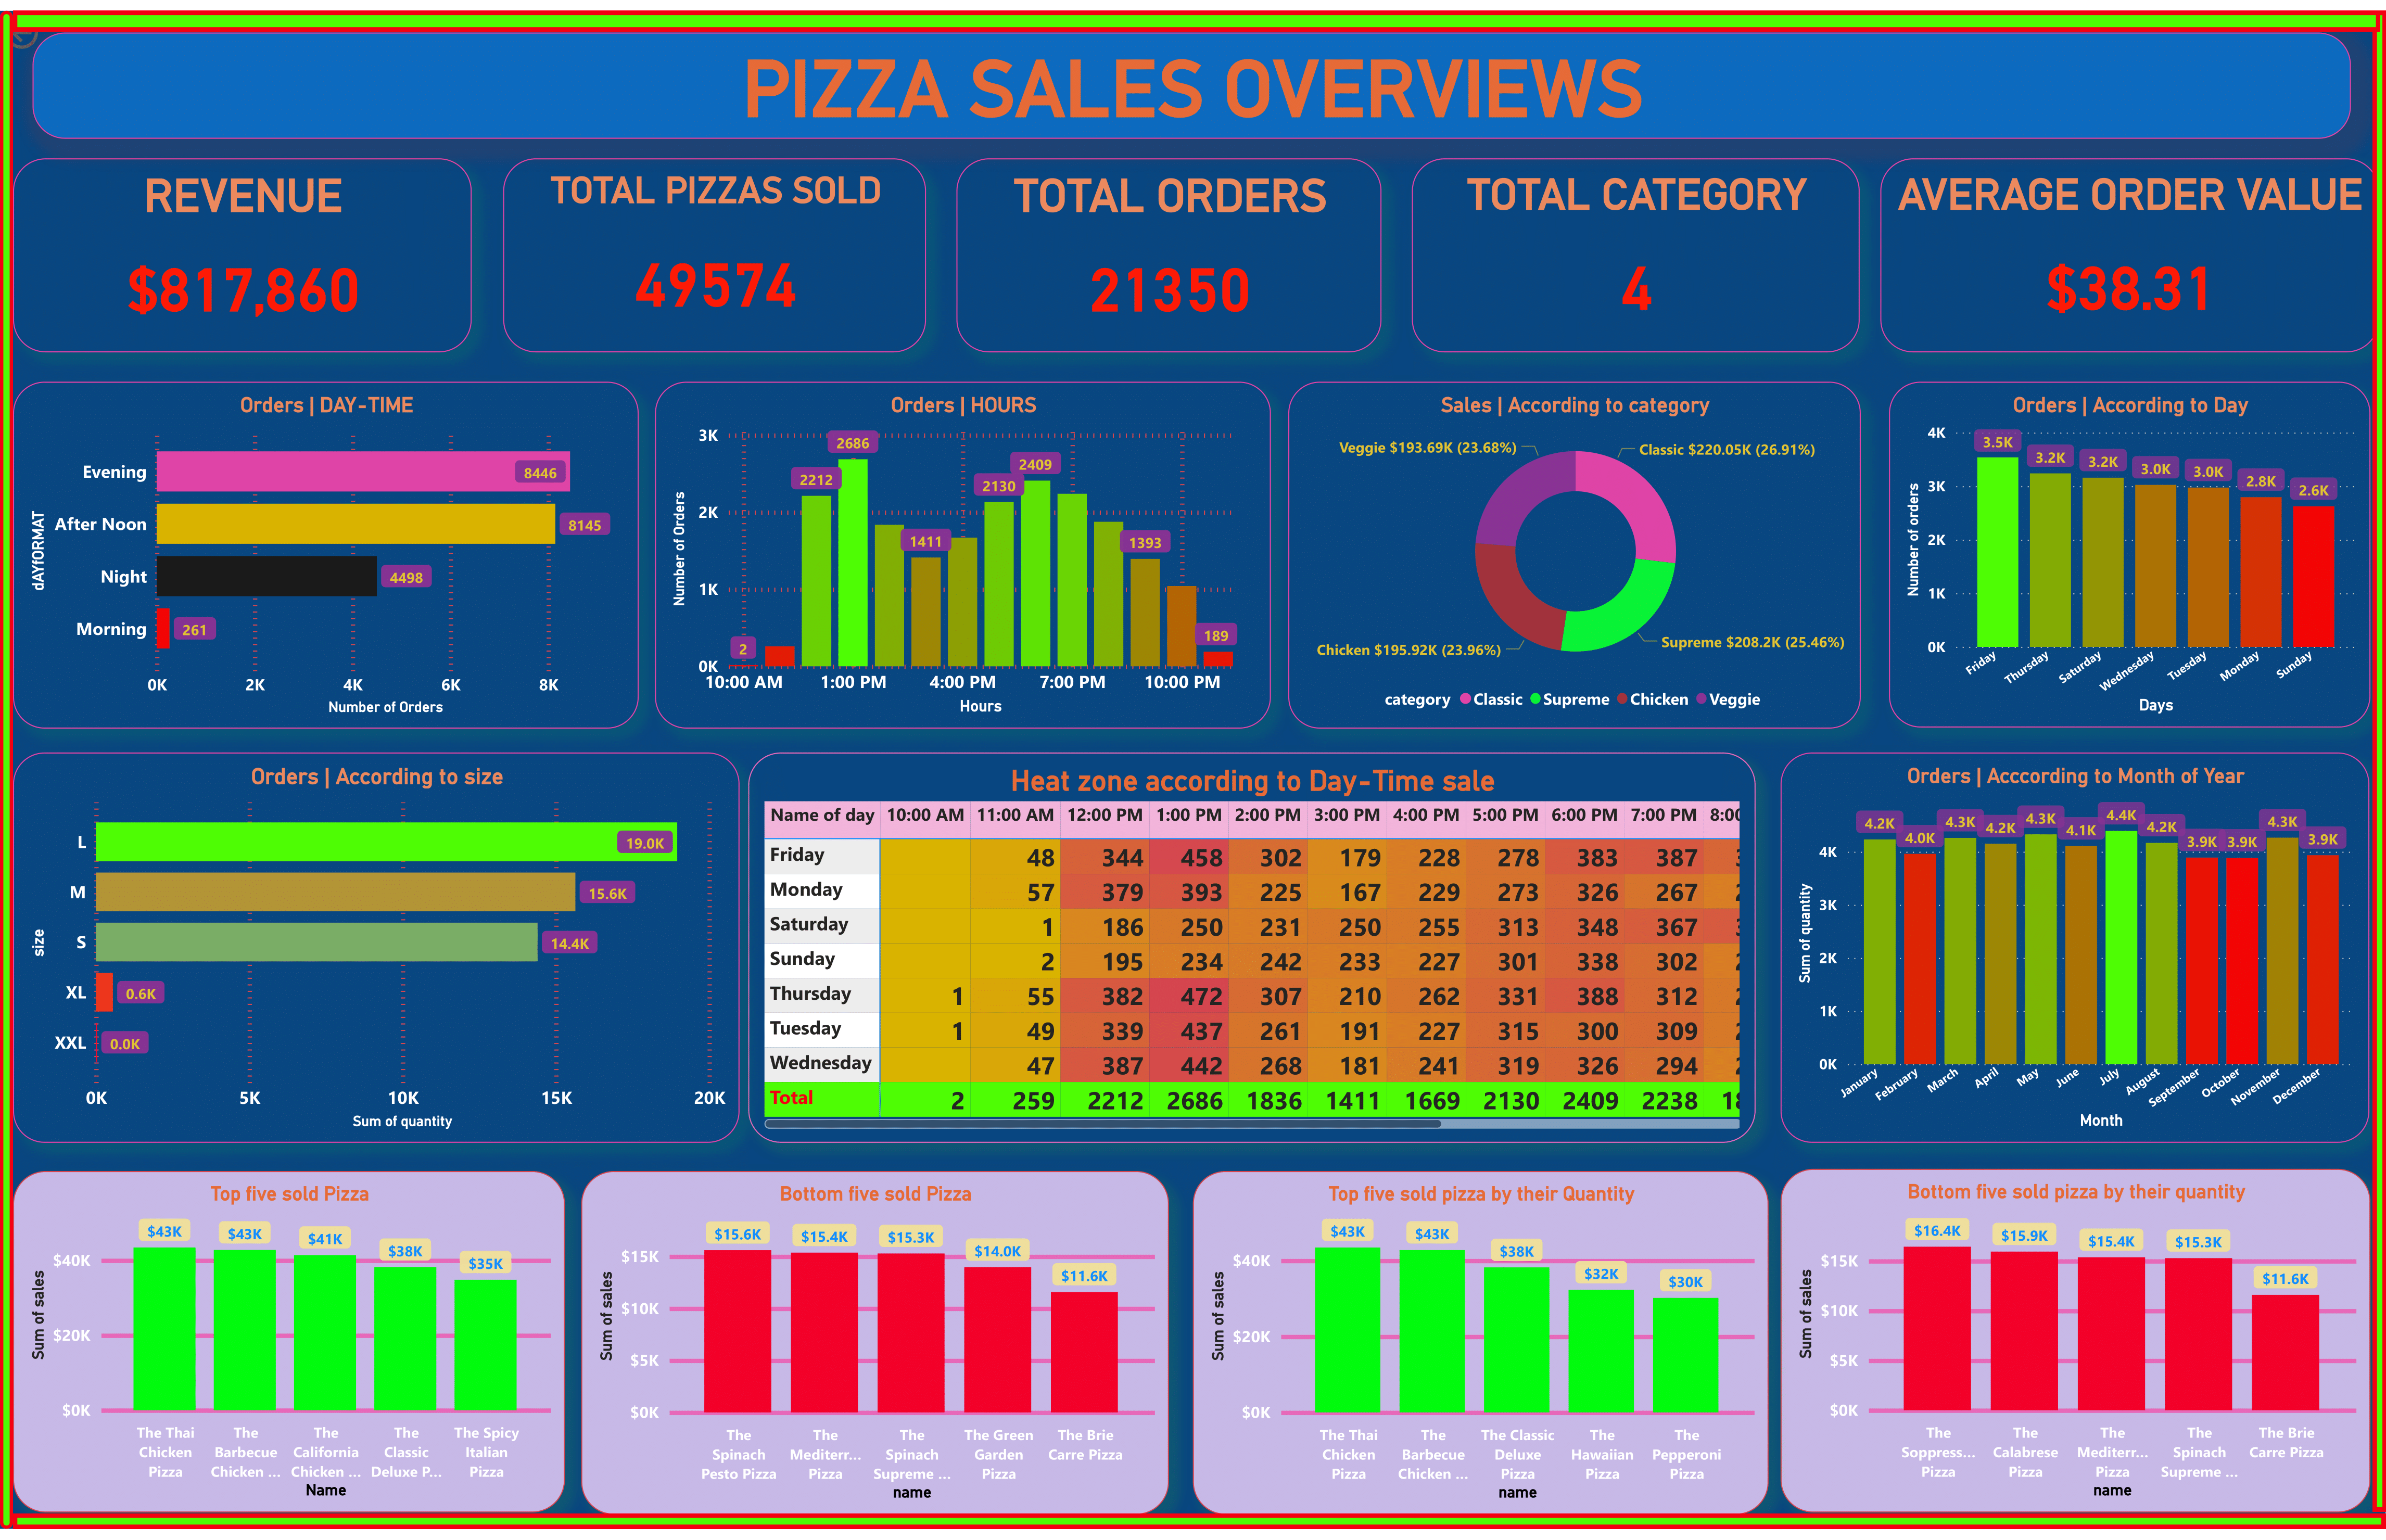

The page's visual inventory and layout, read from the dashboard file:
{"tool":"powerbi","page":{"name":"Pizza","canvas":[2200,1400],"ordinal":0},"visuals":[{"type":"card","title":"REVENUE","fields":{"Values":["Sum(order_details.sales)"]},"box":[11.5,136.5,423.1,178.8],"z":0},{"type":"clusteredColumnChart","title":"Orders | Acccording to Month of Year","fields":{"Category":["orders.date.Variation.Date Hierarchy.Quarter","orders.date.Variation.Date Hierarchy.Month"],"Y":["Sum(order_details.quantity)"]},"box":[1642.8,683.1,542.9,359.7],"z":1000},{"type":"card","title":"TOTAL ORDERS","fields":{"Values":["order_details.Number of Orders"]},"box":[882.7,136.5,392.3,178.8],"z":2000},{"type":"card","title":"TOTAL PIZZAS SOLD","fields":{"Values":["Sum(order_details.quantity)"]},"box":[463.5,136.5,390.4,178.8],"z":3000},{"type":"donutChart","title":"Sales | According to category","fields":{"Category":["pizza_types.category"],"Y":["Sum(order_details.sales)"]},"box":[1187.7,341.5,527.7,320],"z":4000},{"type":"columnChart","fields":{"Y":["order_details.Number of Orders"],"Category":["orders.Hours"]},"box":[964.5,1512.9,635.5,345.2],"z":5000},{"type":"columnChart","title":"Orders | According to Day","fields":{"Category":["orders.Name of day"],"Y":["order_details.Number of Orders"]},"box":[1741.5,341.6,444.1,319.5],"z":6000},{"type":"pivotTable","title":"Heat zone according to Day-Time sale","fields":{"Rows":["orders.Name of day"],"Columns":["orders.Hours"],"Values":["CountNonNull(orders.order_id)"]},"box":[690.8,683.1,929.2,360],"z":7000},{"type":"actionButton","box":[0,0,100,40],"z":8000},{"type":"shape","box":[0,1816.7,2200,83.3],"z":11000},{"type":"textbox","title":"PIZZA SALES OVERVIEWS ","box":[30.8,19.2,2138.5,98.1],"z":16000},{"type":"card","title":"TOTAL CATEGORY","fields":{"Values":["Count(pizza_types.category)"]},"box":[1301.9,136.5,413.5,178.8],"z":16001},{"type":"card","title":"AVERAGE ORDER VALUE","fields":{"Values":["order_details.AVERAGE"]},"box":[1734.6,136.5,459.6,178.8],"z":16002},{"type":"barChart","title":"Orders | According to size","fields":{"Category":["pizzas.size"],"Y":["Sum(order_details.quantity)"]},"box":[11.7,683.1,670.1,359.7],"z":16003},{"type":"clusteredColumnChart","title":"Orders | HOURS","fields":{"Category":["orders.Hours"],"Y":["order_details.Number of Orders"]},"box":[604.6,341.5,567.7,320],"z":16004},{"type":"clusteredColumnChart","title":"Top five sold Pizza","fields":{"Category":["pizza_types.name"],"Y":["Sum(order_details.sales)"]},"box":[11.8,1070.6,508.8,314.7],"z":16005},{"type":"clusteredColumnChart","title":"Bottom five sold Pizza ","fields":{"Category":["pizza_types.name"],"Y":["Sum(order_details.sales)"]},"box":[536.9,1069.2,541.5,316.9],"z":16006},{"type":"clusteredColumnChart","title":"Bottom five sold pizza by their quantity","fields":{"Category":["pizza_types.name"],"Y":["Sum(order_details.sales)"]},"box":[1642.8,1067.5,544.1,316.9],"z":16007},{"type":"clusteredColumnChart","title":"Top five sold pizza by their Quantity","fields":{"Category":["pizza_types.name"],"Y":["Sum(order_details.sales)"]},"box":[1100,1069.2,530.8,316.9],"z":16008},{"type":"clusteredBarChart","title":"Orders | DAY-TIME","fields":{"Category":["orders.dAYfORMAT"],"Y":["order_details.Number of Orders"]},"box":[12.3,341.5,576.9,320],"z":16010},{"type":"shape","box":[0,0,11.7,1400],"z":16011},{"type":"shape","box":[11.7,1385.7,2188.3,14.3],"z":16012},{"type":"shape","box":[2187,0,13,1384.4],"z":16013},{"type":"shape","box":[11.5,0,2182.7,19.2],"z":16014}]}

Visuals, with their boxes in screenshot pixels (x1, y1, x2, y2), scaled from the page's 2200x1400 canvas onto the 2386x1540 screenshot:
"REVENUE" card: bbox=[12, 150, 472, 347]
"Orders | Acccording to Month of Year" clusteredColumnChart: bbox=[1782, 752, 2370, 1147]
"TOTAL ORDERS" card: bbox=[957, 150, 1383, 347]
"TOTAL PIZZAS SOLD" card: bbox=[503, 150, 926, 347]
"Sales | According to category" donutChart: bbox=[1288, 376, 1860, 728]
"Orders | According to Day" columnChart: bbox=[1889, 376, 2370, 727]
"Heat zone according to Day-Time sale" pivotTable: bbox=[749, 752, 1757, 1148]
actionButton: bbox=[0, 0, 108, 44]
"PIZZA SALES OVERVIEWS " textbox: bbox=[33, 21, 2353, 129]
"TOTAL CATEGORY" card: bbox=[1412, 150, 1860, 347]
"AVERAGE ORDER VALUE" card: bbox=[1881, 150, 2380, 347]
"Orders | According to size" barChart: bbox=[12, 752, 740, 1147]
"Orders | HOURS" clusteredColumnChart: bbox=[656, 376, 1272, 728]
"Top five sold Pizza" clusteredColumnChart: bbox=[13, 1178, 565, 1524]
"Bottom five sold Pizza " clusteredColumnChart: bbox=[582, 1176, 1170, 1525]
"Bottom five sold pizza by their quantity" clusteredColumnChart: bbox=[1782, 1174, 2372, 1523]
"Top five sold pizza by their Quantity" clusteredColumnChart: bbox=[1193, 1176, 1769, 1525]
"Orders | DAY-TIME" clusteredBarChart: bbox=[14, 376, 639, 728]
shape: bbox=[0, 0, 12, 1539]
shape: bbox=[12, 1524, 2385, 1539]
shape: bbox=[2372, 0, 2385, 1523]
shape: bbox=[12, 0, 2380, 21]
